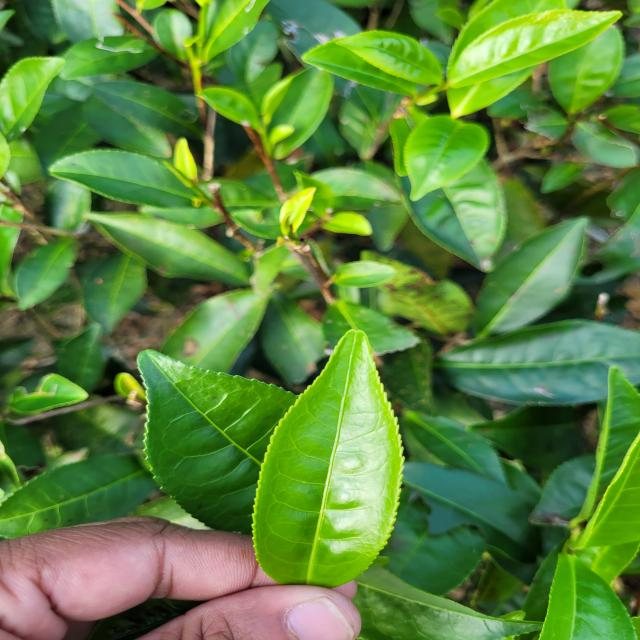Category B(2-4 days): (210, 300, 458, 597)
